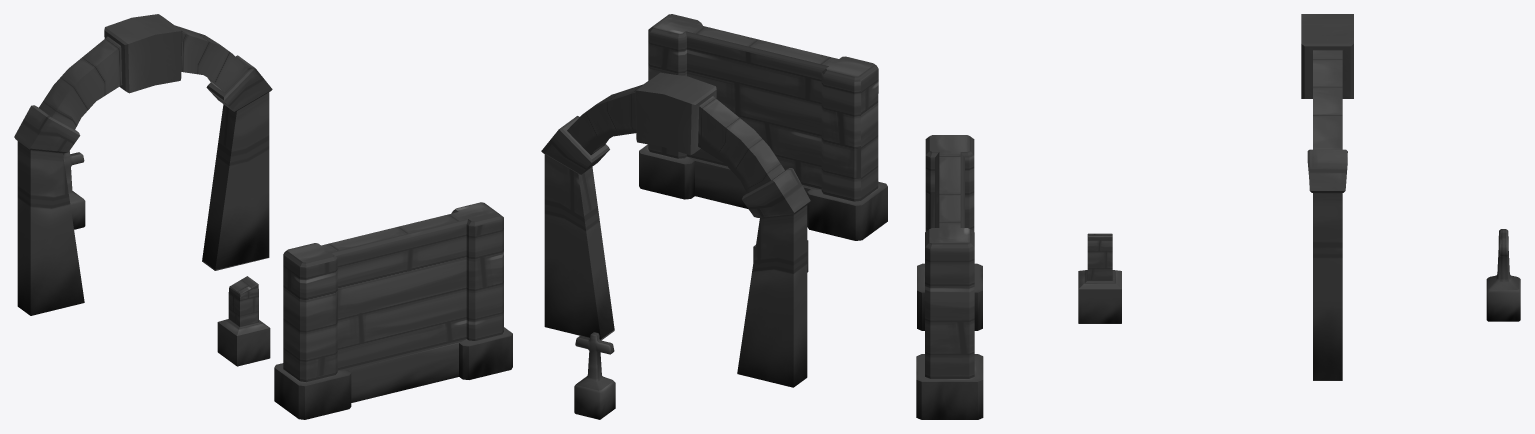
Rendered from architecture.fbx.
The picture shows the model from 3 angles, left to right: view 1: azimuth 30°, elevation 25°; view 2: azimuth 150°, elevation 25°; view 3: azimuth 270°, elevation 25°; orthographic projection. The views are drawn at different scales.
Visible parts, largest first — view 1: wall1, arch, ruin1, gravestone; view 2: arch, wall1, gravestone; view 3: wall1, arch, ruin1, gravestone.
Part boxes in pixels (<box>): wall1: <box>274,202,512,419</box>; arch: <box>14,14,272,315</box>; ruin1: <box>217,276,270,366</box>; gravestone: <box>63,151,85,229</box>; arch: <box>541,72,810,387</box>; wall1: <box>639,14,887,240</box>; gravestone: <box>574,332,615,419</box>; wall1: <box>916,135,983,419</box>; arch: <box>1301,14,1353,380</box>; ruin1: <box>1078,233,1121,323</box>; gravestone: <box>1486,229,1520,321</box>.
Size of the model in its own units: 395 by 310 by 586.
